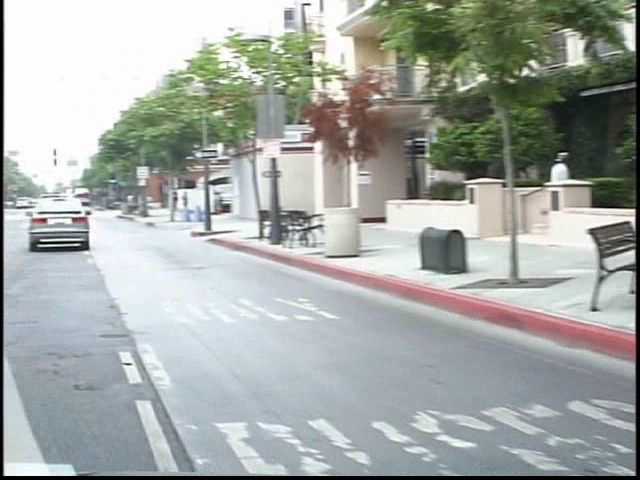person: (524, 146, 565, 240), (167, 184, 182, 218)
